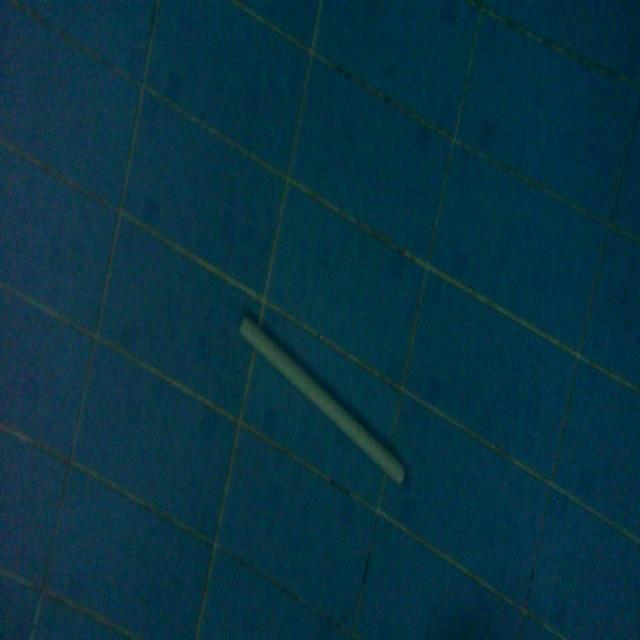Cube: (237, 307, 407, 489)
